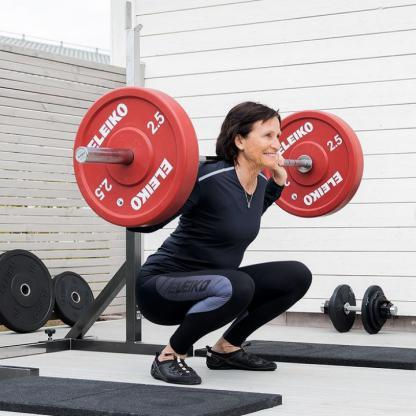Barbell: (74, 147, 92, 166)
